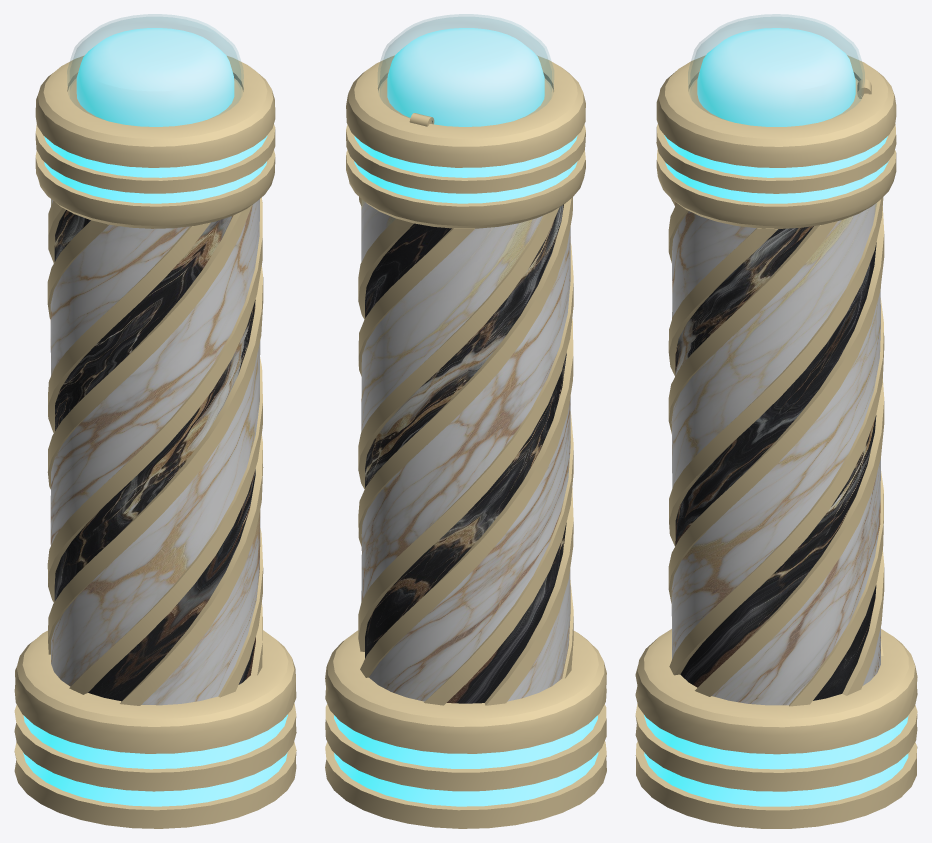
The model's file is PeakOfSozaTurnButton.fbx.
3 renders of one model, left to right at view 1: azimuth 30°, elevation 25°; view 2: azimuth 150°, elevation 25°; view 3: azimuth 270°, elevation 25°, orthographic.
Parts seen in each view (by area): view 1: Cylinder, Cylinder.003, Cylinder.001; view 2: Cylinder, Cylinder.003, Cylinder.001; view 3: Cylinder, Cylinder.003, Cylinder.001.
Part boxes in pixels (x1,y1,x2,y2): Cylinder: (14,55,296,828); Cylinder.003: (67,14,243,126); Cylinder.001: (76,28,234,126); Cylinder: (325,55,606,828); Cylinder.003: (378,14,553,126); Cylinder.001: (387,28,544,126); Cylinder: (635,55,917,828); Cylinder.003: (688,14,871,126); Cylinder.001: (697,28,855,126).
Bounding box in the file's own units: 108 × 310 × 108.
Materials: 5 (2 with a texture image).
